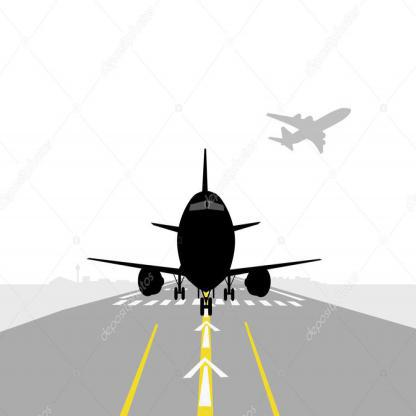CIV_Plane: (87, 144, 325, 315), (259, 102, 351, 160)
